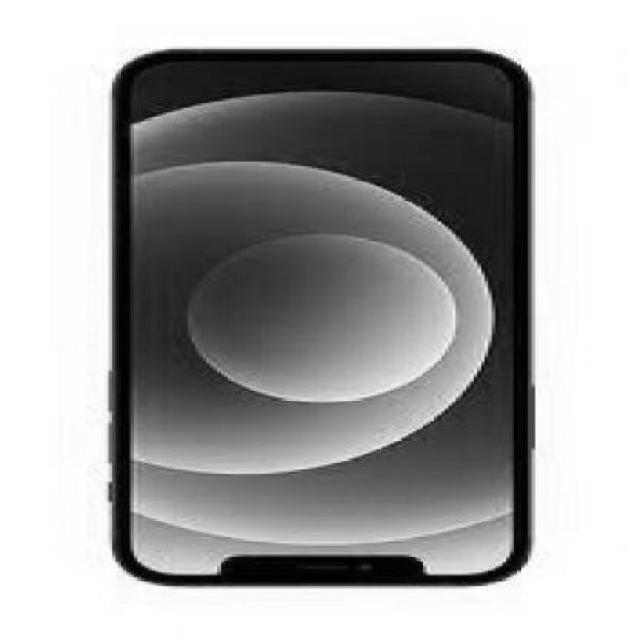fake: (112, 48, 536, 592)
